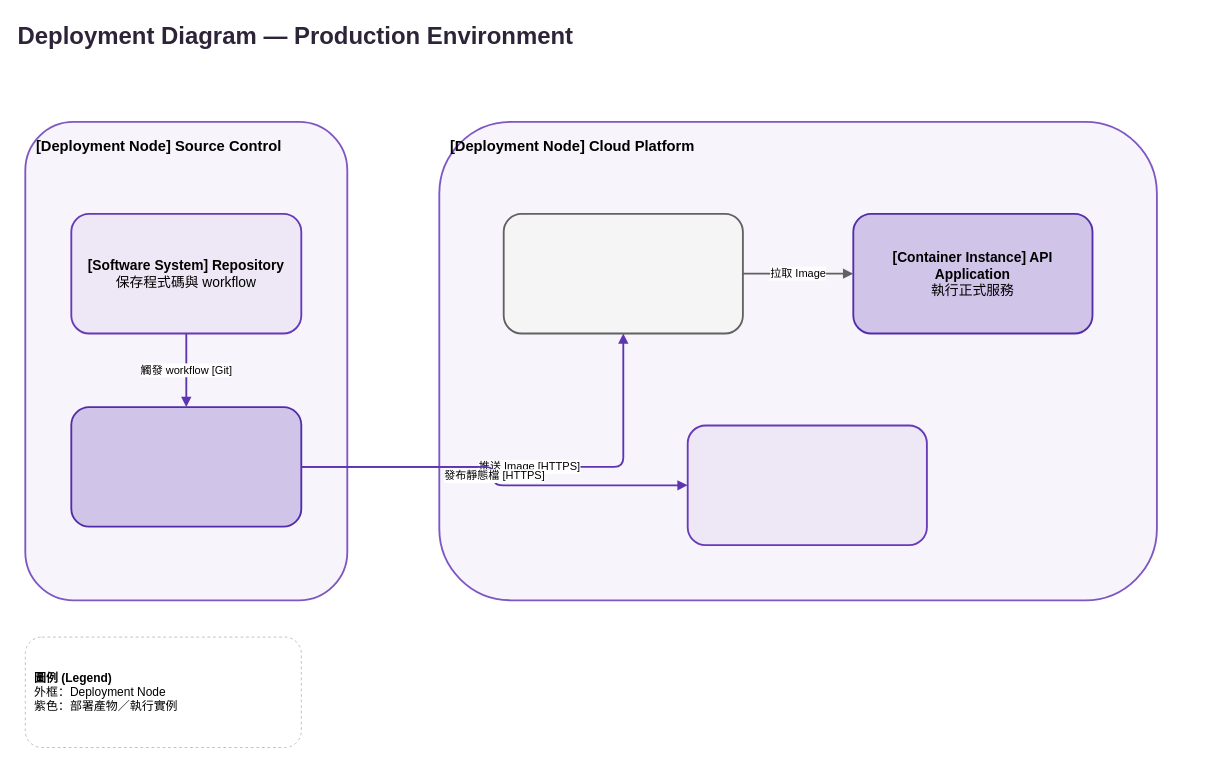
This 1209x764 diagram has some shape labels left out. The centre of each missing label's shape, as x and y in pixels:
"[Deployment Node] Static Hosting 發布前端檔案" goes at (806,485).
"[Infrastructure Node] CI/CD Pipeline 測試、建置與部署" goes at (186,466).
"[Infrastructure Node] Image Registry 保存 Container Image" goes at (622,273).
